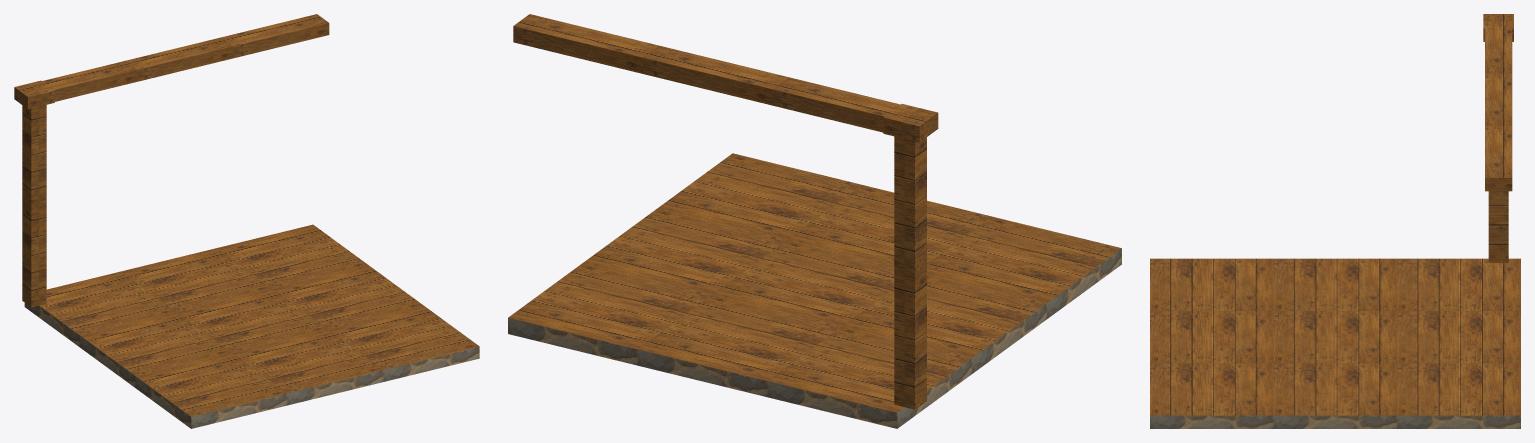
Rendered from frontier-porch-bay.gltf.
The picture shows the model from 3 angles, left to right: view 1: azimuth 30°, elevation 25°; view 2: azimuth 150°, elevation 25°; view 3: azimuth 270°, elevation 25°; orthographic projection. The views are drawn at different scales.
Parts seen in each view (by area): view 1: floor-L0-wood, structure-L0-wood, floor-L0-stone; view 2: floor-L0-wood, structure-L0-wood, floor-L0-stone; view 3: floor-L0-wood, structure-L0-wood, floor-L0-stone.
Boxes of the visible parts, x1,y1,x2,y2 form: floor-L0-wood: (39, 224, 479, 416); structure-L0-wood: (14, 14, 329, 307); floor-L0-stone: (24, 303, 479, 428); floor-L0-wood: (508, 153, 1121, 412); structure-L0-wood: (513, 14, 938, 409); floor-L0-stone: (508, 248, 1121, 428); floor-L0-wood: (1150, 258, 1520, 415); structure-L0-wood: (1483, 14, 1513, 262); floor-L0-stone: (1150, 415, 1520, 428).
Bounding box in the file's own units: 3.14 × 2.24 × 3.
Materials: 3 (3 with a texture image).
